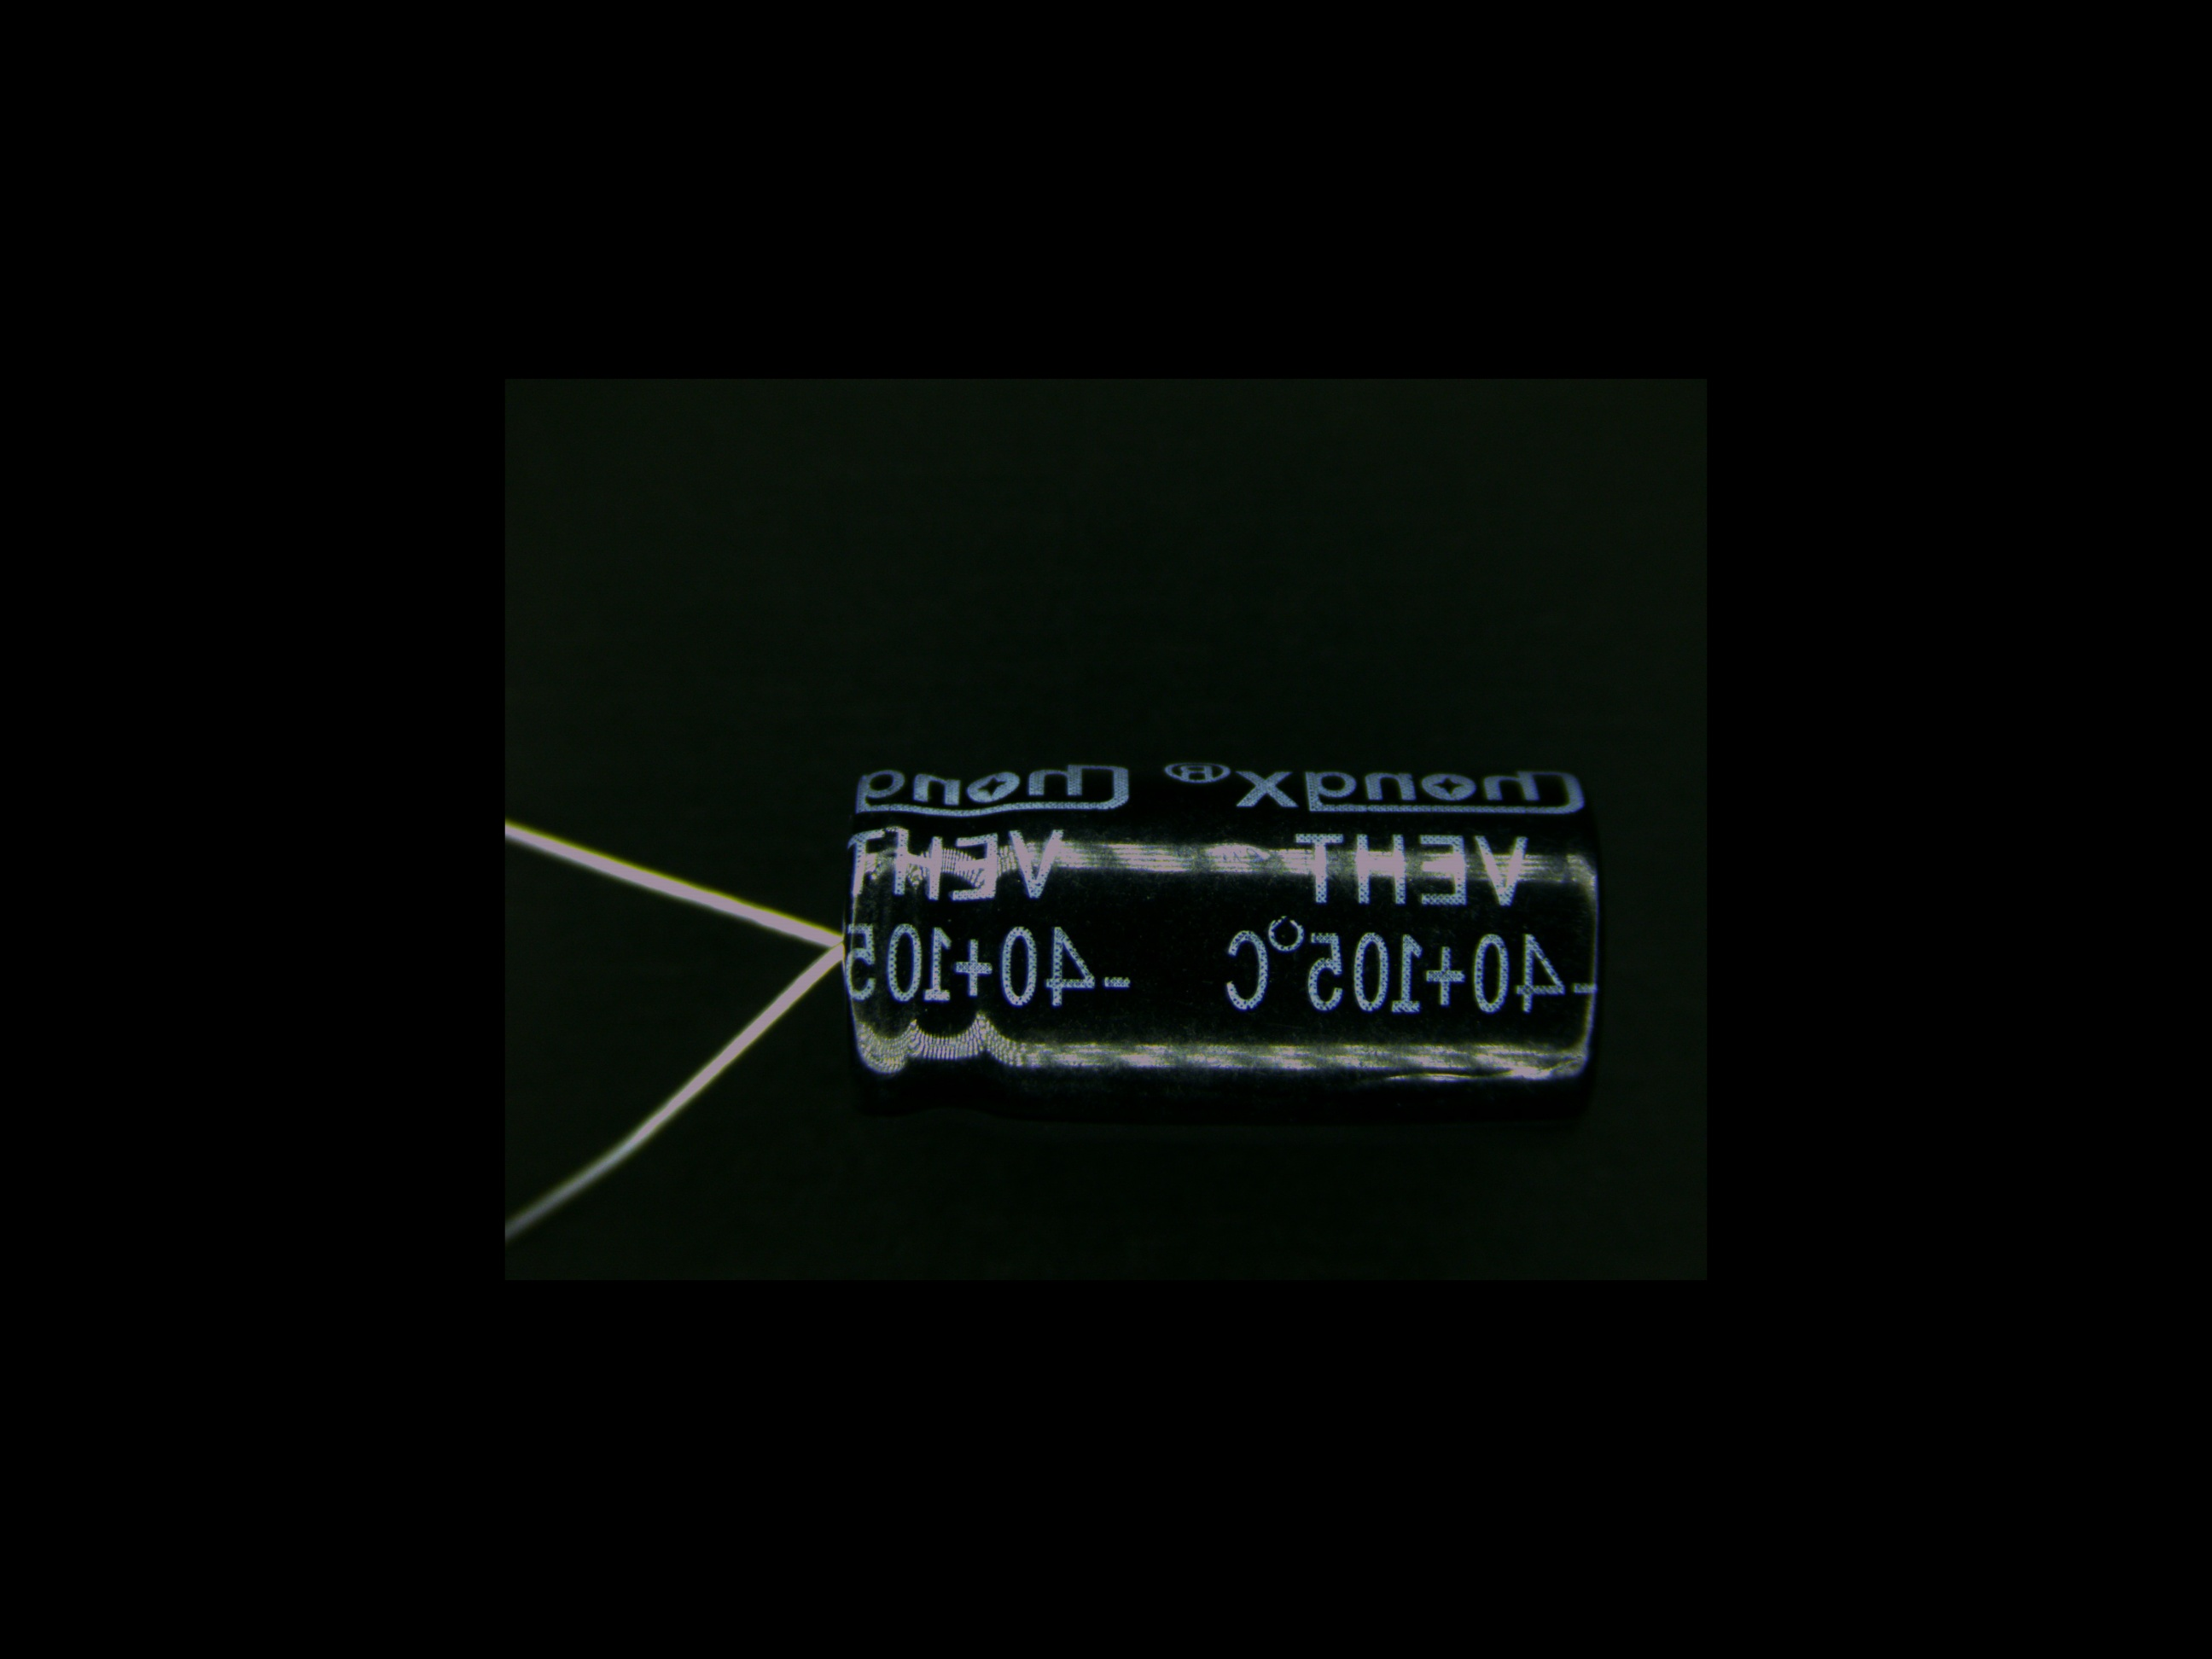c3: (681, 763, 1608, 1119)
